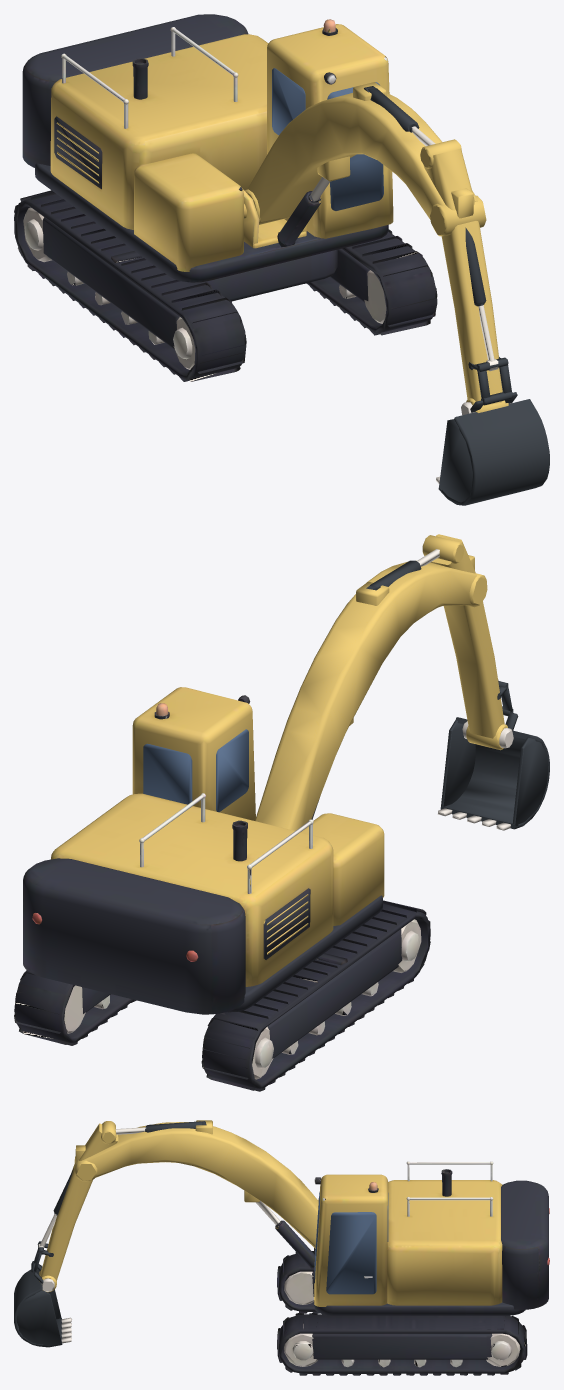
File: excavator.glb
3 views of the same model, one above another, from view 1: azimuth 30°, elevation 25°; view 2: azimuth 150°, elevation 25°; view 3: azimuth 270°, elevation 25° (orthographic). The views are drawn at different scales.
Visible parts, largest first — view 1: excavator_upper, excavator_arm, excavator_body; view 2: excavator_upper, excavator_arm, excavator_body; view 3: excavator_upper, excavator_arm, excavator_body.
Boxes of the visible parts, x1,y1,x2,y2 form: excavator_upper: (22, 14, 393, 282); excavator_arm: (244, 68, 549, 505); excavator_body: (14, 190, 437, 381); excavator_upper: (23, 687, 384, 1014); excavator_arm: (143, 534, 549, 830); excavator_body: (14, 900, 430, 1091); excavator_upper: (275, 1161, 549, 1315); excavator_arm: (14, 1120, 388, 1347); excavator_body: (277, 1251, 527, 1375).
Size of the model in its own units: 2.92 by 3.7 by 8.4.
3 materials, 3 textured.
